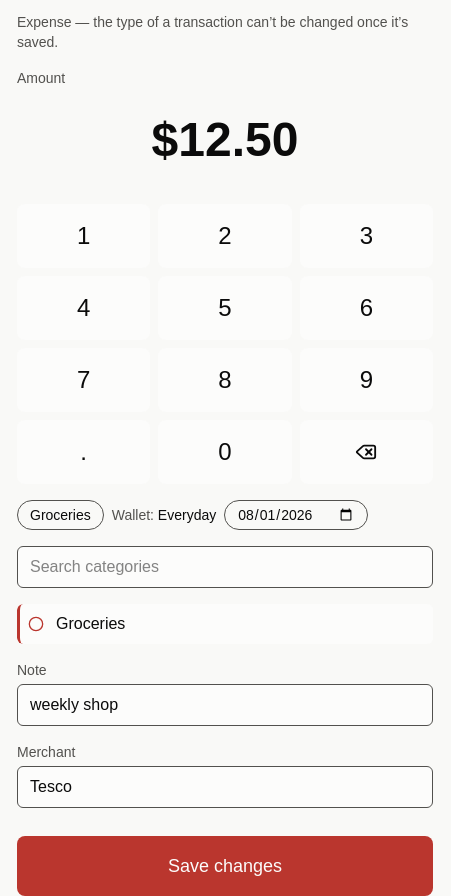
Test case: TransactionForm — edit mode (Task 6) › surfaces the server's error and does not redirect when the edit fails
Click the button "Save changes".
click(225, 866)  # box [17, 836, 433, 895]
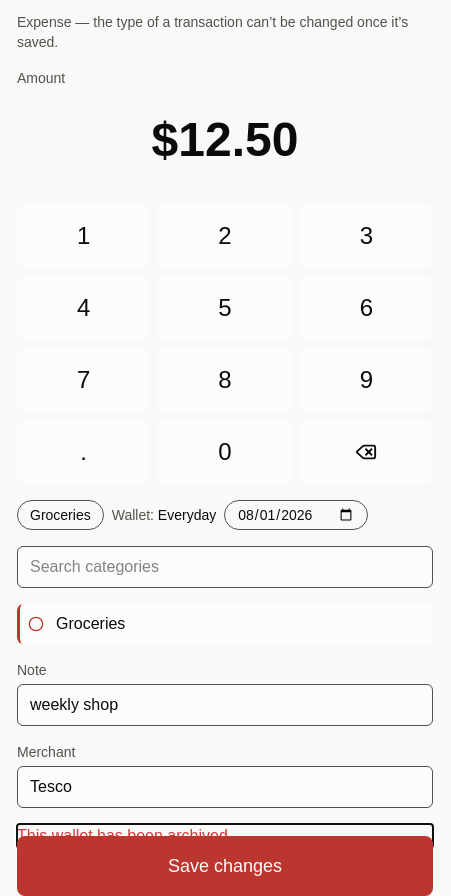
Result: the text "This wallet has been archived." is shown at [17, 827, 232, 844]
